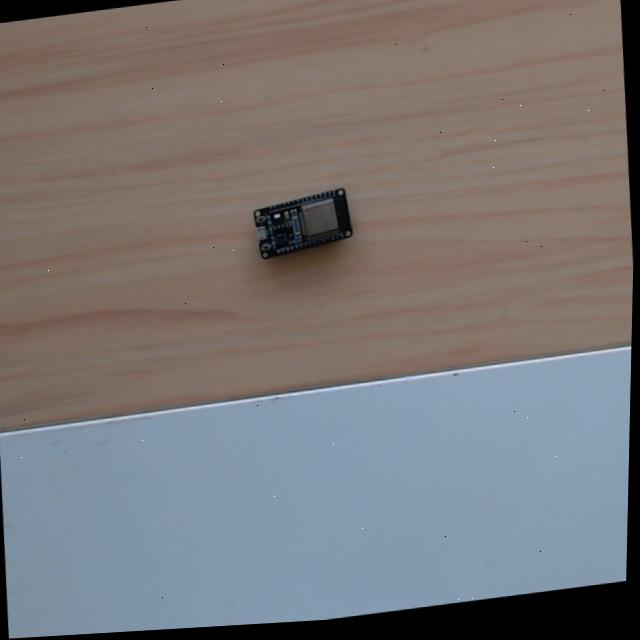ESP32-DevKit: (245, 182, 356, 260)
